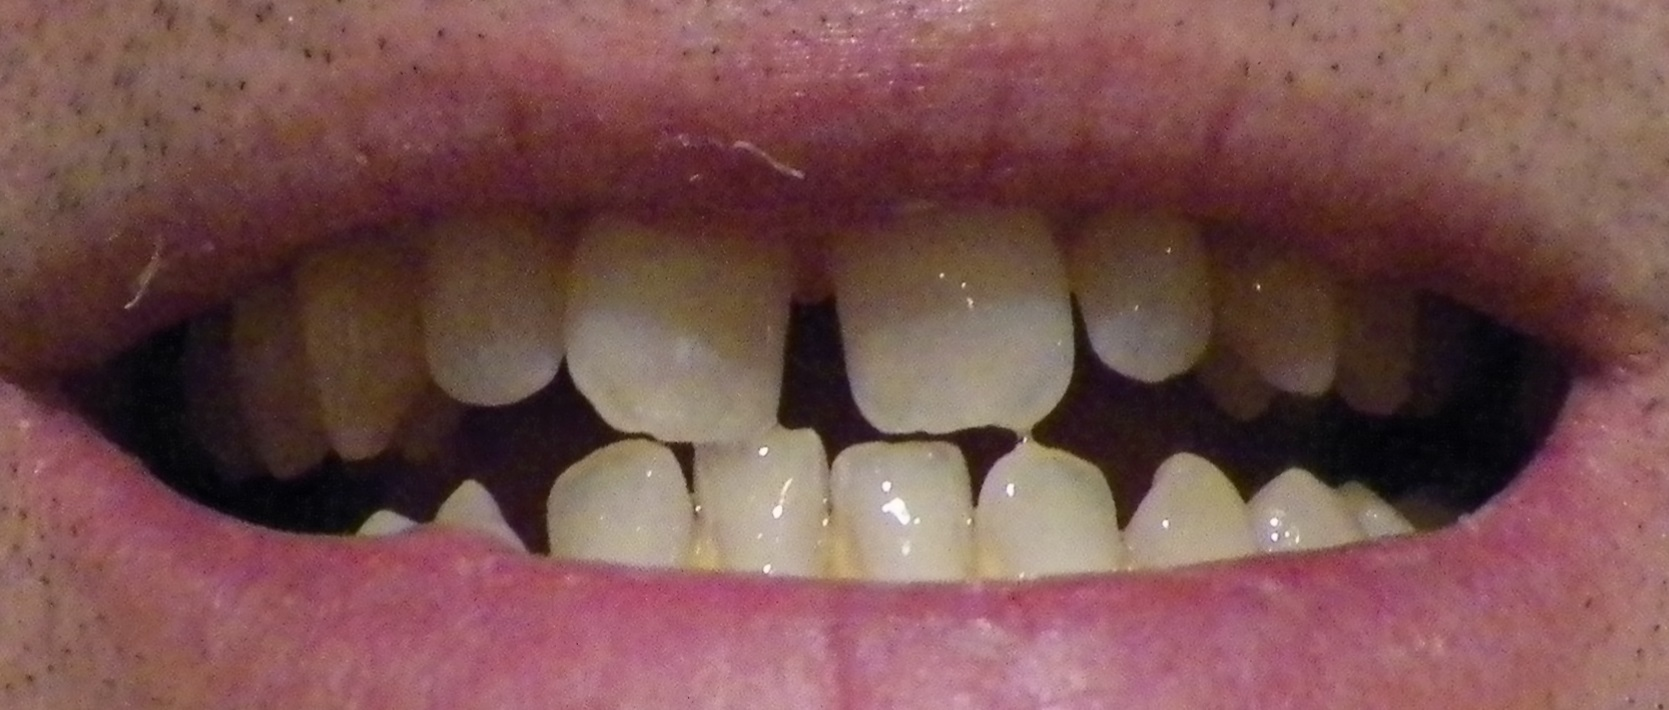boca: (154, 226, 1519, 576)
